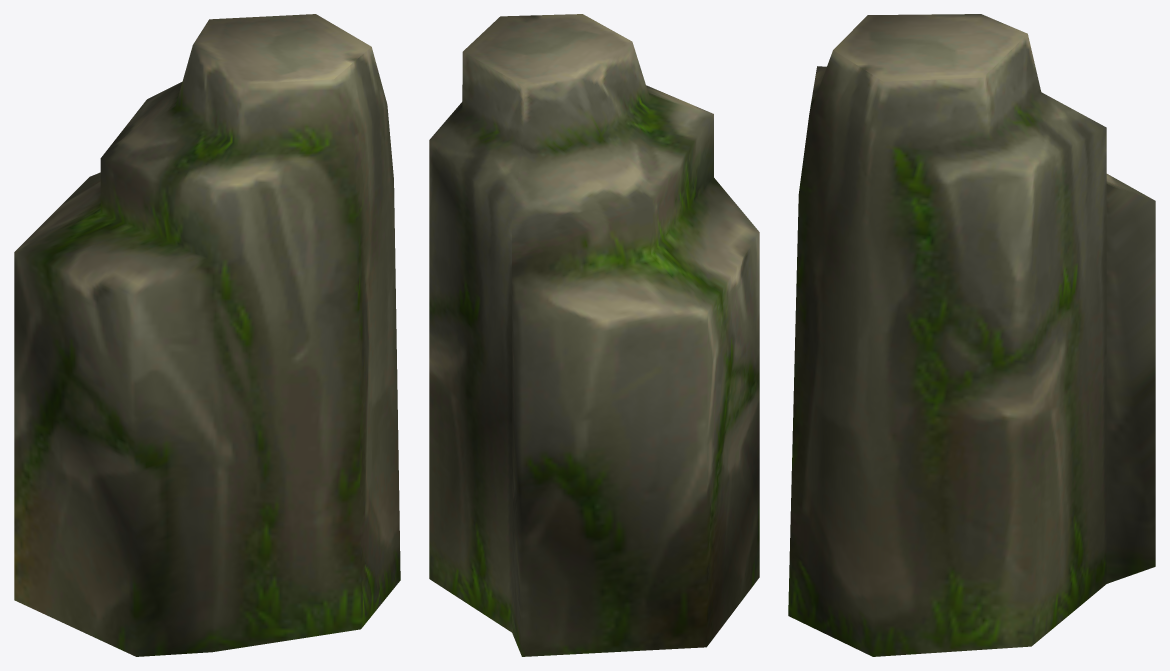
The model's file is RockFormation_4_5 (4).fbx.
3 renders of one model, left to right at view 1: azimuth 30°, elevation 25°; view 2: azimuth 150°, elevation 25°; view 3: azimuth 270°, elevation 25°, orthographic. The views are drawn at different scales.
Parts seen in each view (by area): view 1: RockFormation_4_5 (4); view 2: RockFormation_4_5 (4); view 3: RockFormation_4_5 (4).
Part boxes in pixels (box(x1,y1,x2,y2)): RockFormation_4_5 (4): box(14, 14, 400, 656); RockFormation_4_5 (4): box(429, 14, 759, 656); RockFormation_4_5 (4): box(788, 14, 1155, 656).
Bounding box in the file's own units: 339 × 560 × 331.
